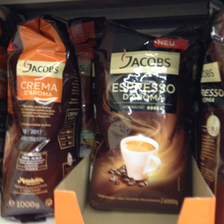coffee: (88, 17, 200, 212), (1, 17, 74, 224)
